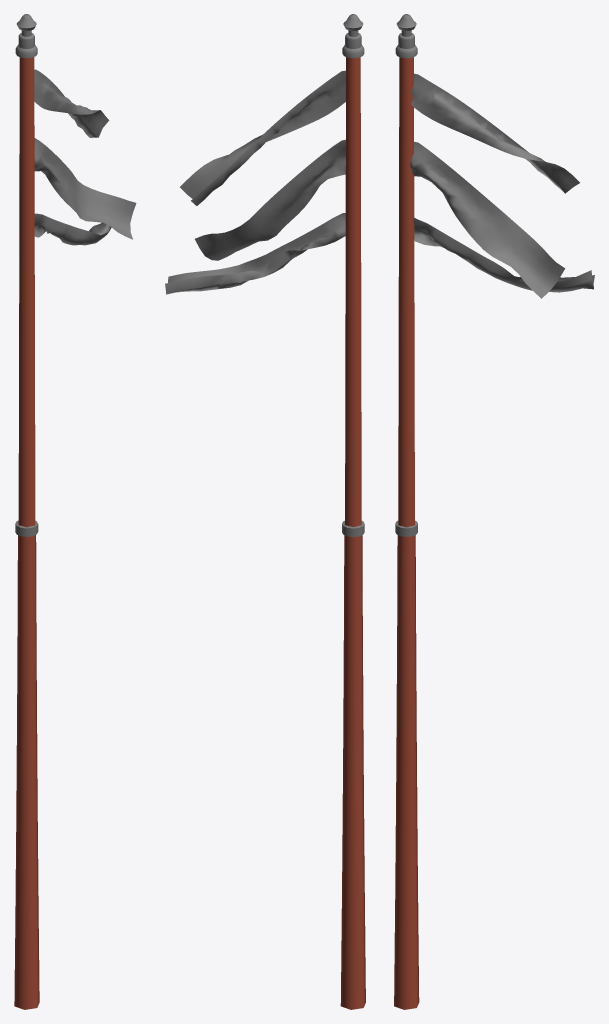
The model's file is SM_pole_banner.fbx.
3 renders of one model, left to right at view 1: azimuth 30°, elevation 25°; view 2: azimuth 150°, elevation 25°; view 3: azimuth 330°, elevation 25°, orthographic.
Visible parts, largest first — view 1: Cylinder070; view 2: Cylinder070; view 3: Cylinder070.
Part boxes in pixels (<box>): Cylinder070: <box>14,14,136,1009</box>; Cylinder070: <box>165,14,365,1009</box>; Cylinder070: <box>394,14,594,1009</box>.
Size of the model in its own units: 86.65 by 549 by 58.49.
